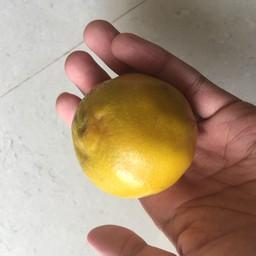Good_orange: (71, 79, 200, 199)
